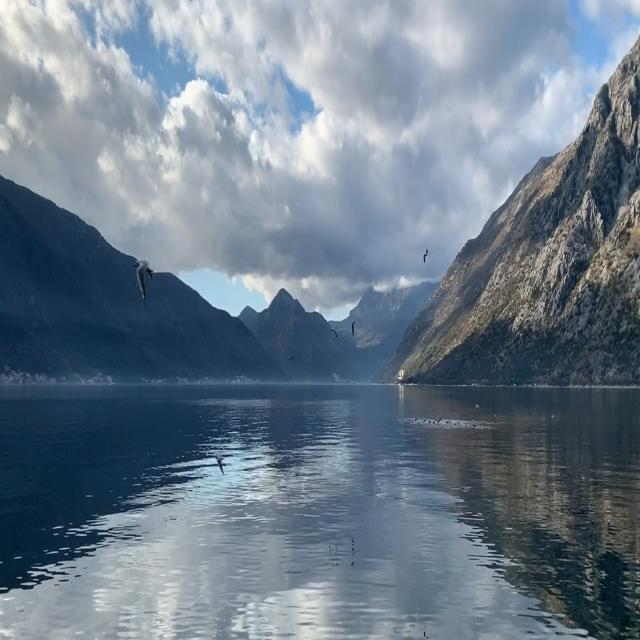bird: (132, 253, 157, 296), (211, 448, 230, 468), (349, 318, 358, 343), (329, 321, 339, 342), (286, 348, 295, 366), (422, 243, 430, 263)
